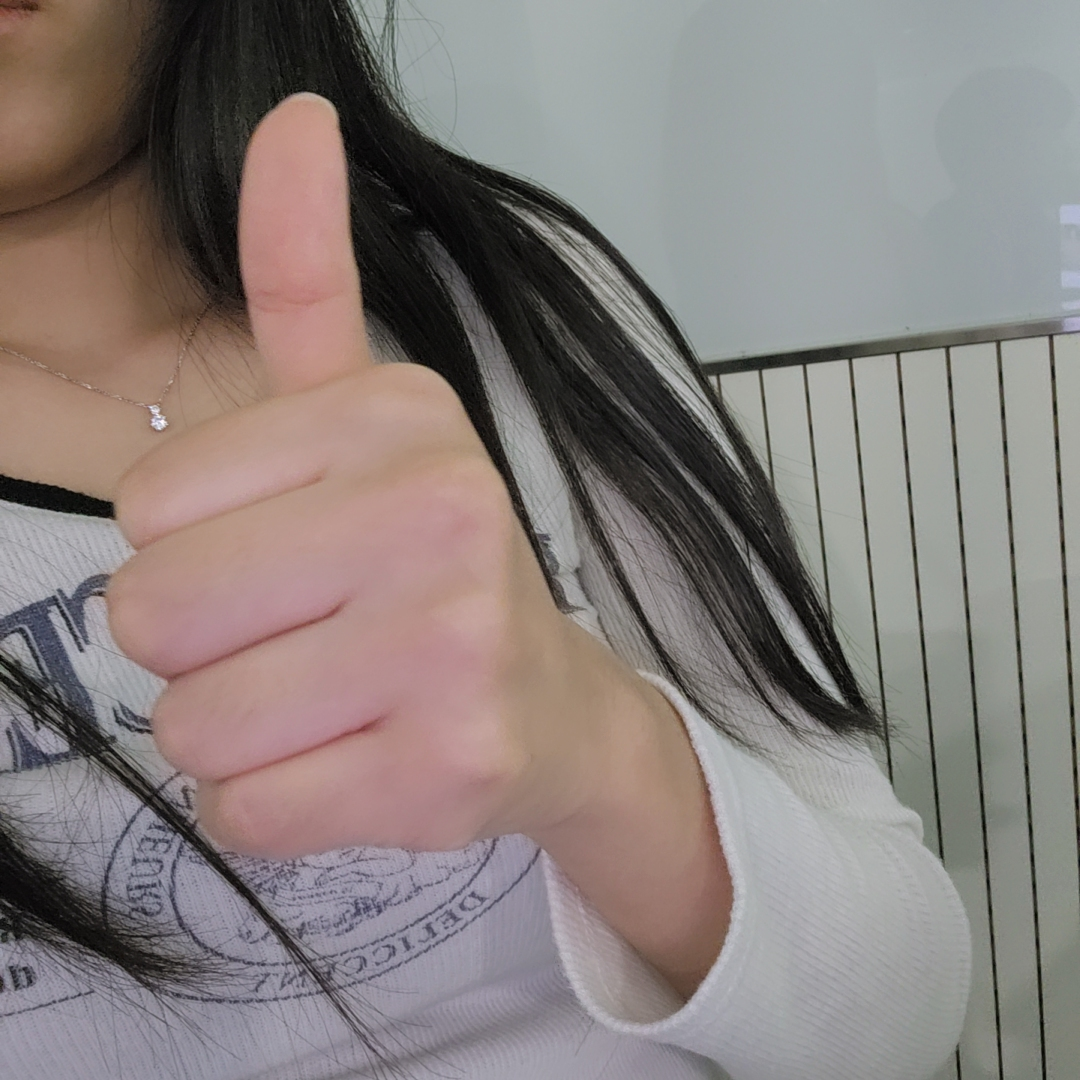best: (106, 100, 534, 856)
